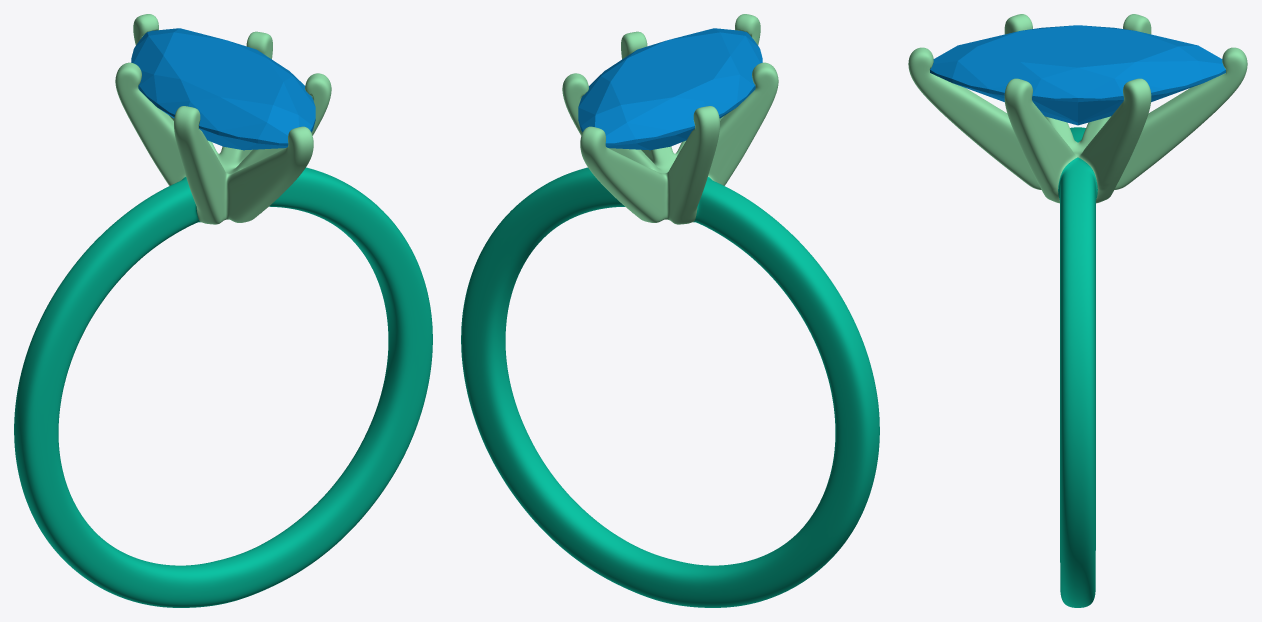
Rendered from BE1199H6_MQ_200ct_RENDER.glb.
3 views of the same model, side by side, from view 1: azimuth 30°, elevation 25°; view 2: azimuth 150°, elevation 25°; view 3: azimuth 270°, elevation 25° (orthographic).
Parts seen in each view (by area): view 1: Metal 01, CS_Diamond_Marquise, Metal 02; view 2: Metal 01, CS_Diamond_Marquise, Metal 02; view 3: Metal 02, CS_Diamond_Marquise, Metal 01.
Part boxes in pixels (left/top/right/bottom): Metal 01: left=14, top=167, right=432, bottom=607; CS_Diamond_Marquise: left=131, top=28, right=315, bottom=150; Metal 02: left=115, top=14, right=331, bottom=224; Metal 01: left=461, top=167, right=879, bottom=607; CS_Diamond_Marquise: left=578, top=28, right=762, bottom=150; Metal 02: left=562, top=14, right=778, bottom=224; Metal 02: left=908, top=14, right=1247, bottom=203; CS_Diamond_Marquise: left=930, top=25, right=1225, bottom=125; Metal 01: left=1058, top=127, right=1097, bottom=607.
Size of the model in its own units: 20.17 by 24.95 by 14.23.
